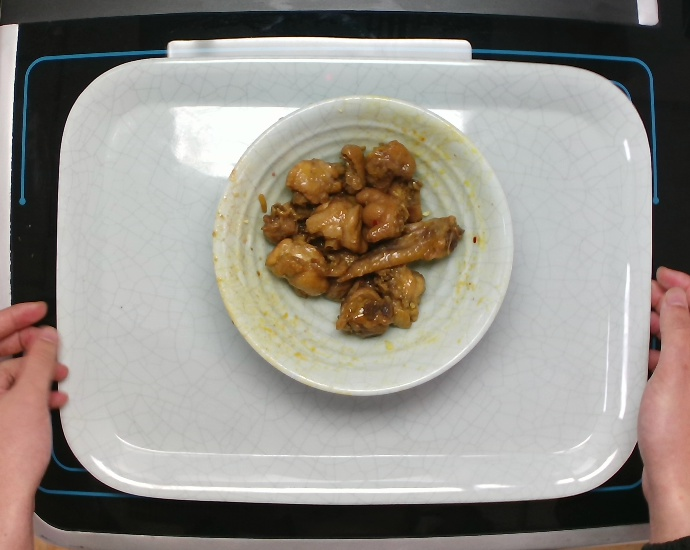JYsf-Xiao_Tang_Wan: (211, 94, 532, 403)
